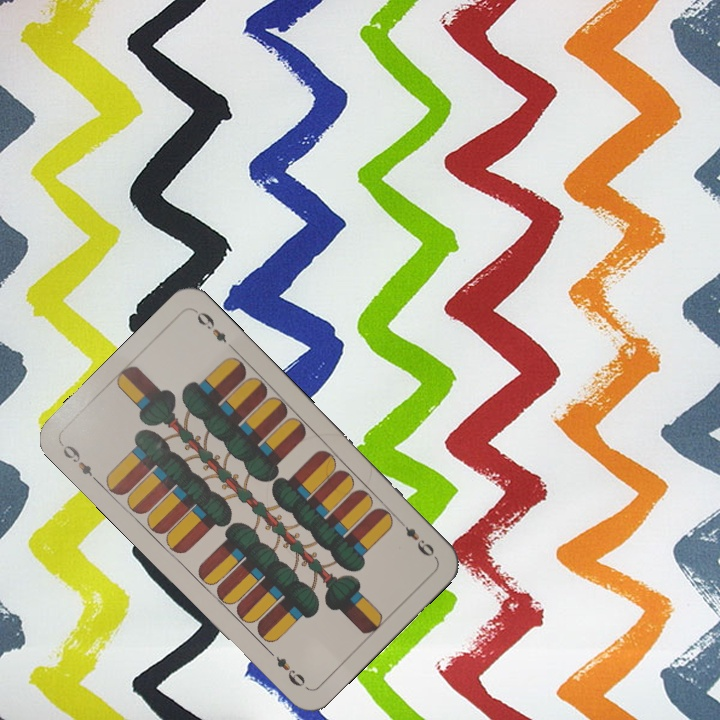E9: (394, 515, 439, 561), (57, 440, 102, 486)
